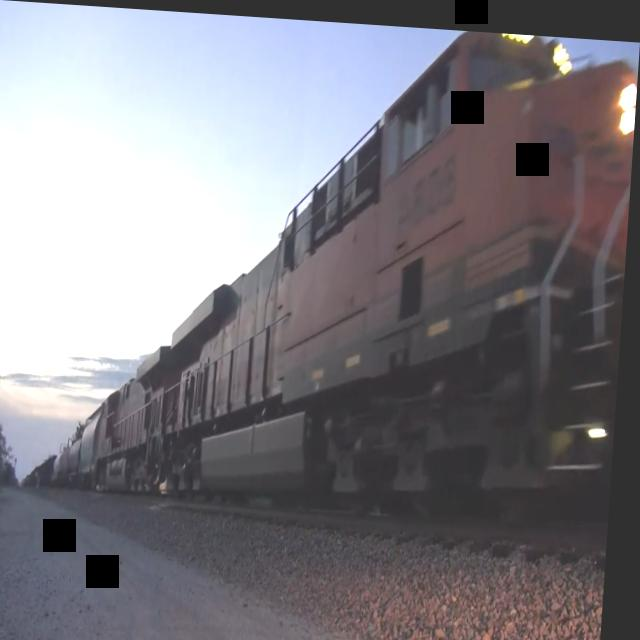locomotive: (161, 10, 640, 545), (96, 323, 175, 505)
